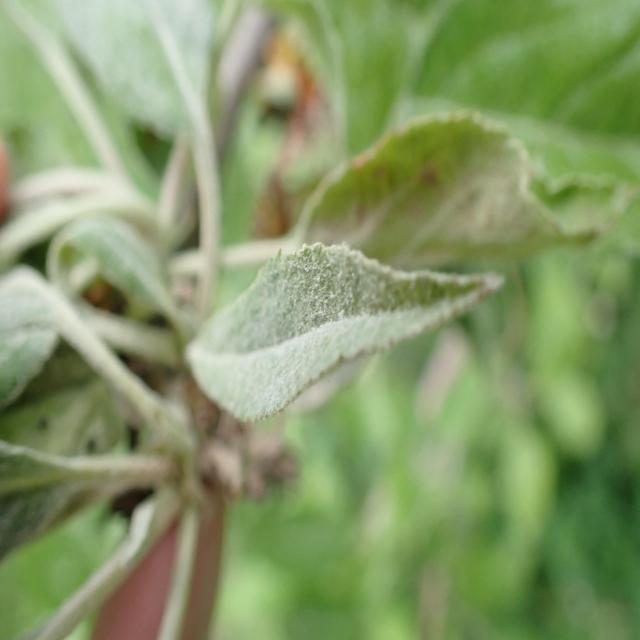Powdery_mildew: (172, 223, 514, 422), (257, 102, 638, 271)
